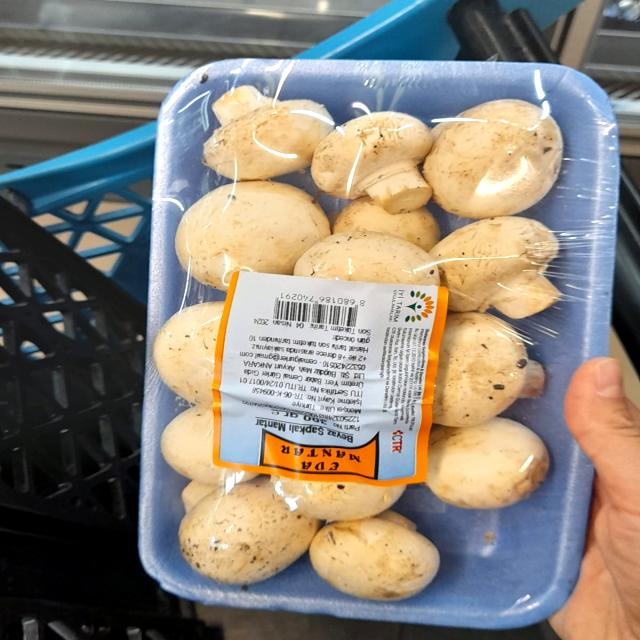mushroom: (421, 87, 572, 223), (165, 469, 319, 594), (304, 96, 441, 215), (425, 209, 572, 319), (199, 80, 333, 183)
